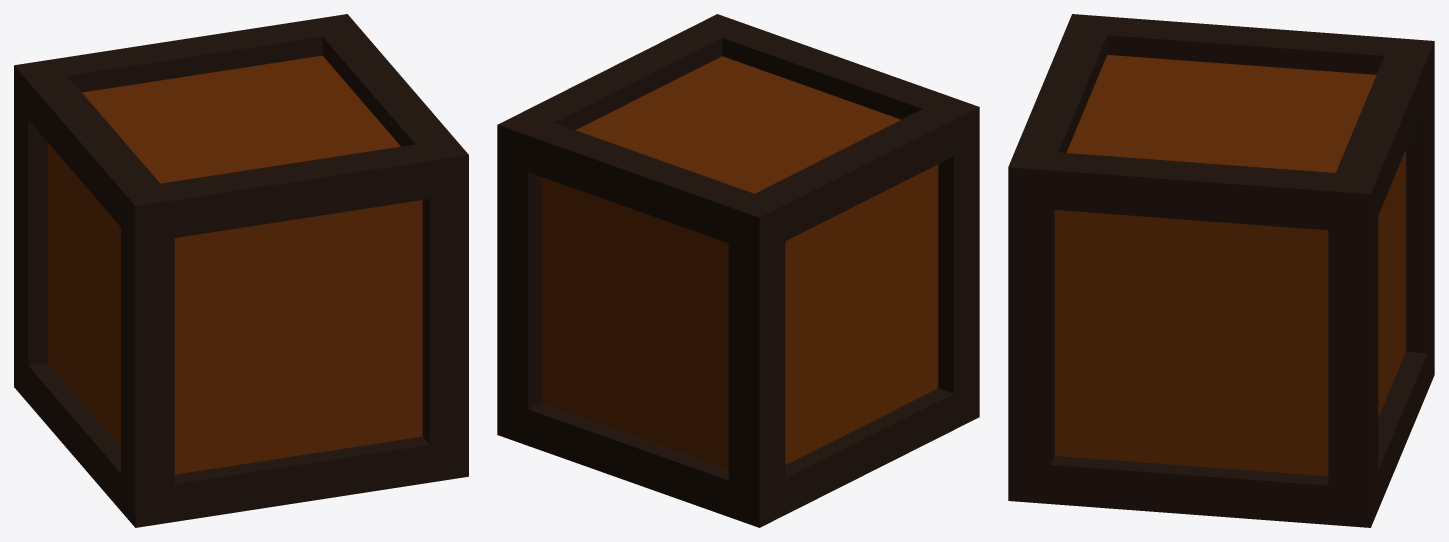
Rendered from Crate.fbx.
3 renders of one model, left to right at view 1: azimuth 30°, elevation 25°; view 2: azimuth 150°, elevation 25°; view 3: azimuth 270°, elevation 25°, orthographic. The views are drawn at different scales.
Parts seen in each view (by area): view 1: Crate 1; view 2: Crate 1; view 3: Crate 1.
Part boxes in pixels (box(x1,y1,x2,y2)): Crate 1: box(14, 14, 468, 527); Crate 1: box(497, 14, 979, 527); Crate 1: box(1008, 14, 1434, 527).
Size of the model in its own units: 30.65 by 26.45 by 30.65.
